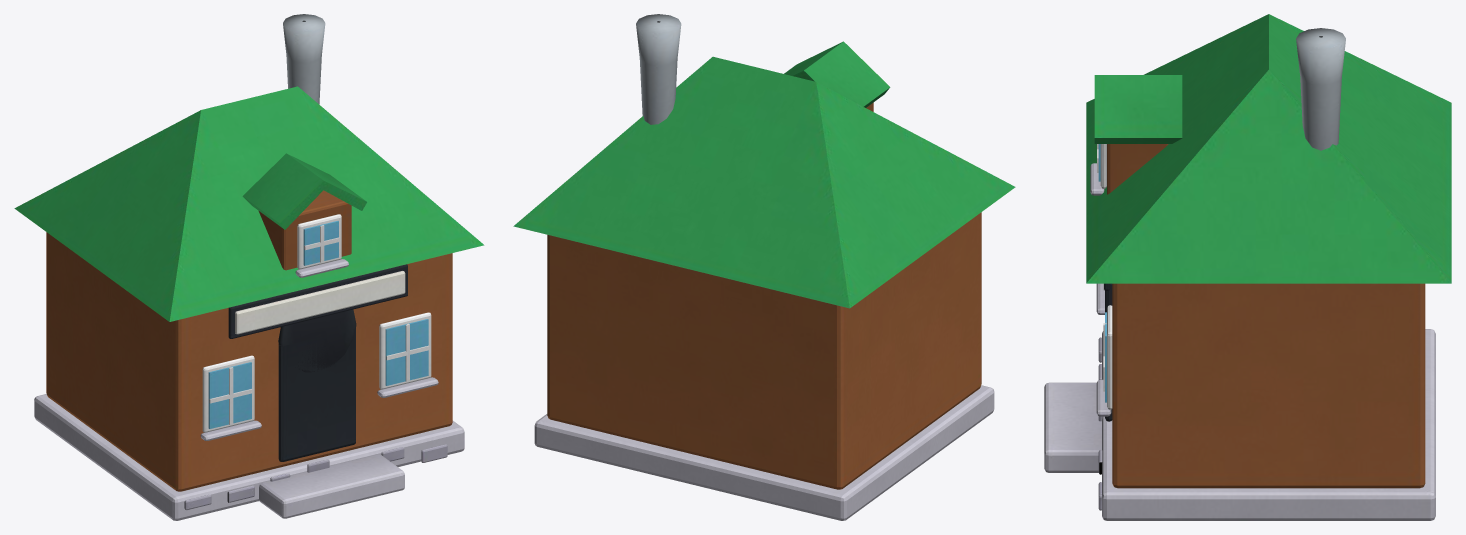
File: atelier5.glb
3 views of the same model, side by side, from view 1: azimuth 30°, elevation 25°; view 2: azimuth 150°, elevation 25°; view 3: azimuth 270°, elevation 25° (orthographic). The views are drawn at different scales.
Parts seen in each view (by area): view 1: appui__stone; view 2: appui__stone; view 3: appui__stone.
Boxes of the visible parts, x1,y1,x2,y2 form: appui__stone: [14, 14, 484, 520]; appui__stone: [513, 14, 1015, 520]; appui__stone: [1044, 14, 1451, 520].
Size of the model in its own units: 4.1 by 4.72 by 3.9.
Materials: 1 (1 with a texture image).
